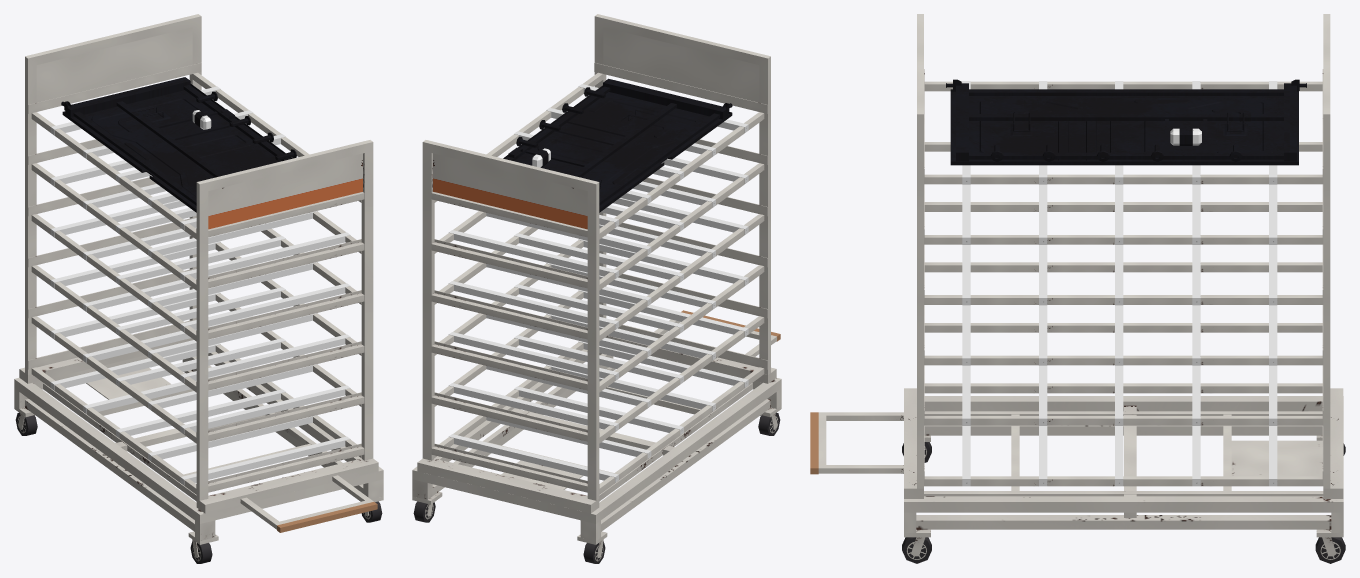
Rendered from yunshu06.FBX.
3 renders of one model, left to right at view 1: azimuth 30°, elevation 25°; view 2: azimuth 150°, elevation 25°; view 3: azimuth 270°, elevation 25°, orthographic. The views are drawn at different scales.
Parts seen in each view (by area): view 1: YF_Model_yunshu06; view 2: YF_Model_yunshu06; view 3: YF_Model_yunshu06.
Part boxes in pixels (<box>): YF_Model_yunshu06: <box>14,14,383,563</box>; YF_Model_yunshu06: <box>412,14,781,563</box>; YF_Model_yunshu06: <box>810,14,1345,563</box>.
Bounding box in the file's own units: 109 × 214 × 232.
